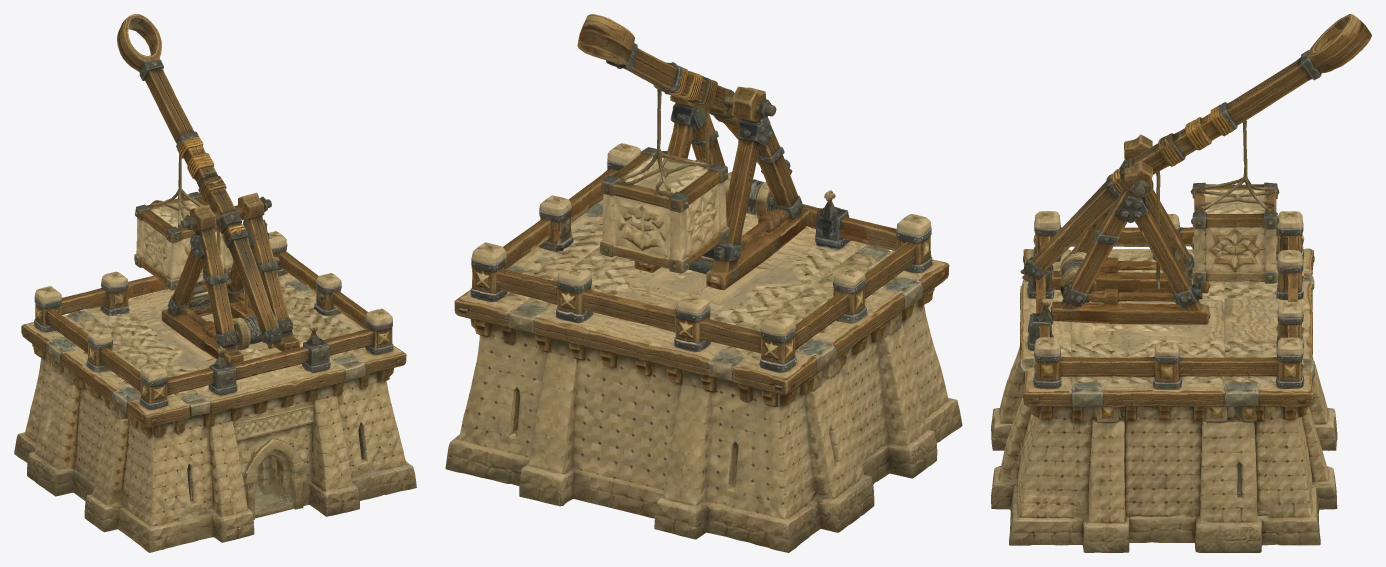
The model's file is Catapult.glb.
The picture shows the model from 3 angles, left to right: view 1: azimuth 30°, elevation 25°; view 2: azimuth 150°, elevation 25°; view 3: azimuth 270°, elevation 25°; orthographic projection. The views are drawn at different scales.
Size of the model in its own units: 1.47 by 1.9 by 1.44.
Materials: 1 (1 with a texture image).
